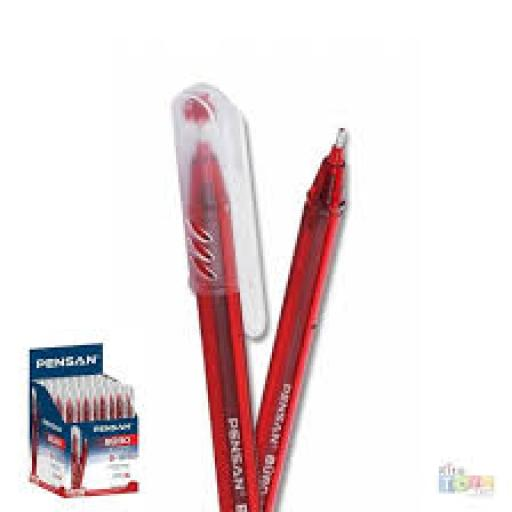tukenmez-kalem: (144, 62, 410, 360)
